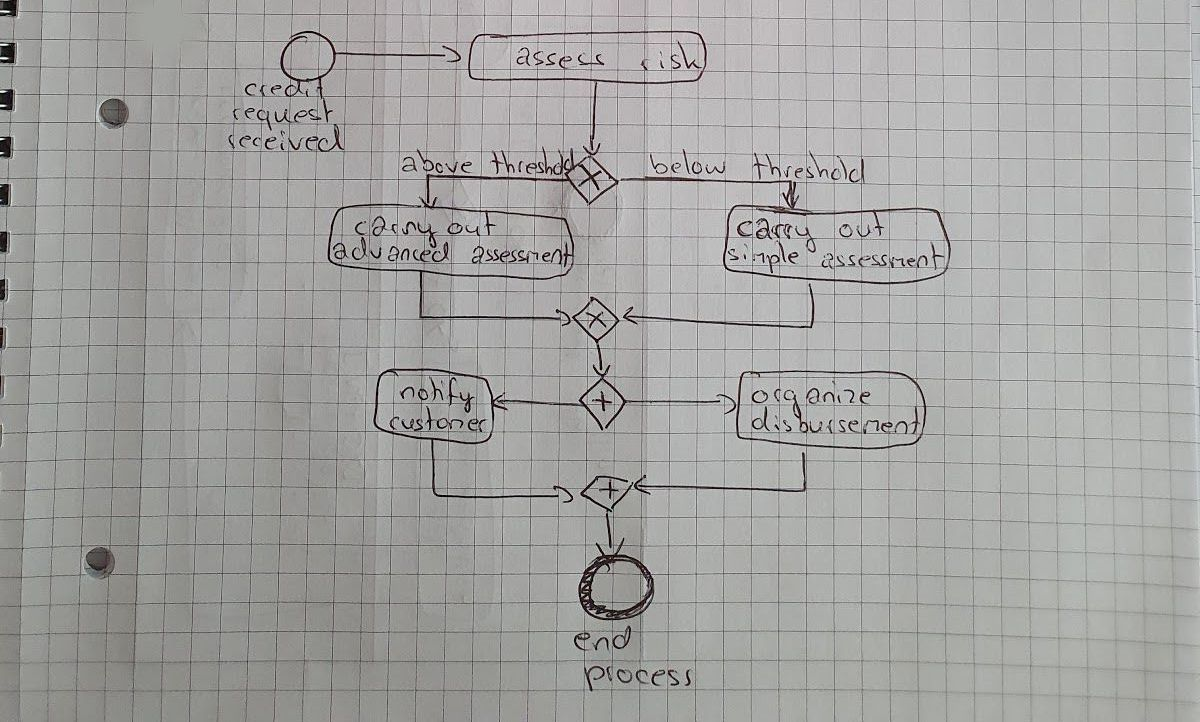above: (397, 146, 477, 178)
advanced: (329, 233, 456, 266)
assess: (513, 45, 609, 73)
assessment: (816, 239, 949, 275), (467, 241, 573, 269)
below: (646, 146, 730, 181)
carry: (733, 215, 824, 258), (350, 213, 443, 253)
credit: (240, 73, 331, 100)
custoner: (385, 403, 491, 436)
disbursement: (748, 403, 925, 440)
end: (569, 623, 637, 656)
notify: (395, 373, 479, 416)
organize: (746, 376, 875, 422)
out: (443, 205, 502, 241), (835, 209, 890, 242)
process: (579, 659, 698, 694)
received: (222, 122, 349, 156)
request: (228, 95, 340, 135)
risk: (637, 37, 705, 77)
simple: (723, 238, 804, 278)
threshold: (748, 149, 870, 188), (486, 143, 580, 178)
